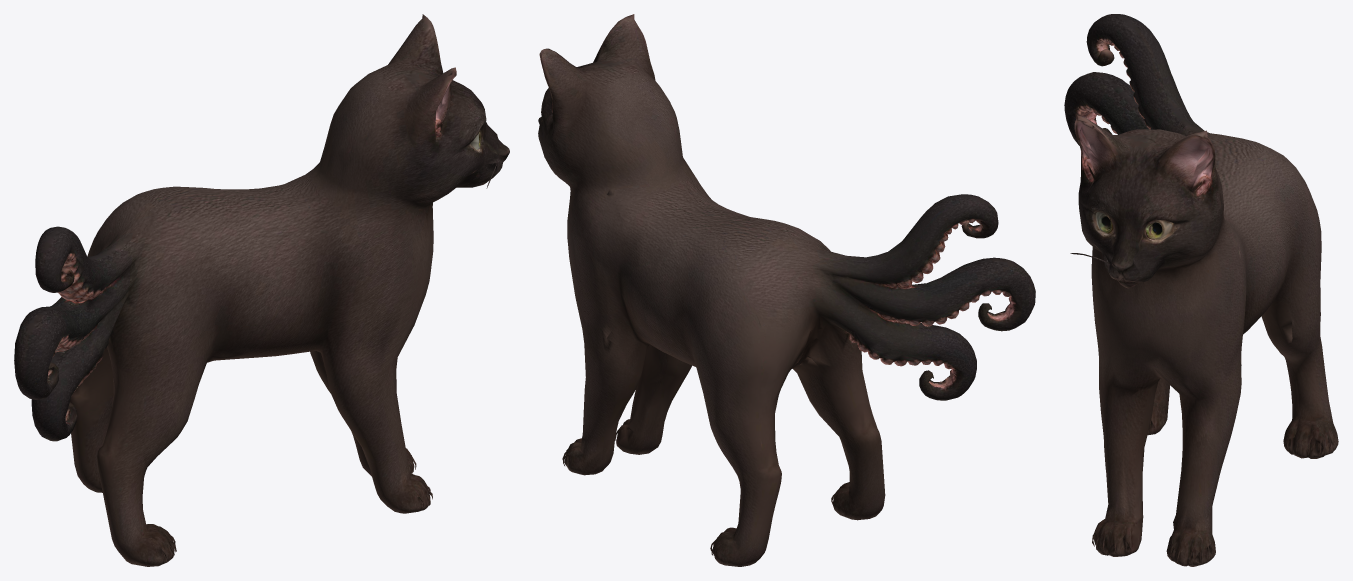
Rendered from OCTOMONA.glb.
3 renders of one model, left to right at view 1: azimuth 30°, elevation 25°; view 2: azimuth 150°, elevation 25°; view 3: azimuth 270°, elevation 25°, orthographic. The views are drawn at different scales.
Visible parts, largest first — view 1: material; view 2: material; view 3: material.
Part boxes in pixels (bbox=[...]): material: bbox=[14, 14, 509, 566]; material: bbox=[538, 14, 1035, 566]; material: bbox=[1064, 14, 1338, 566].
Size of the model in its own units: 1.2 by 0.9998 by 0.5515.
Materials: 1 (1 with a texture image).
